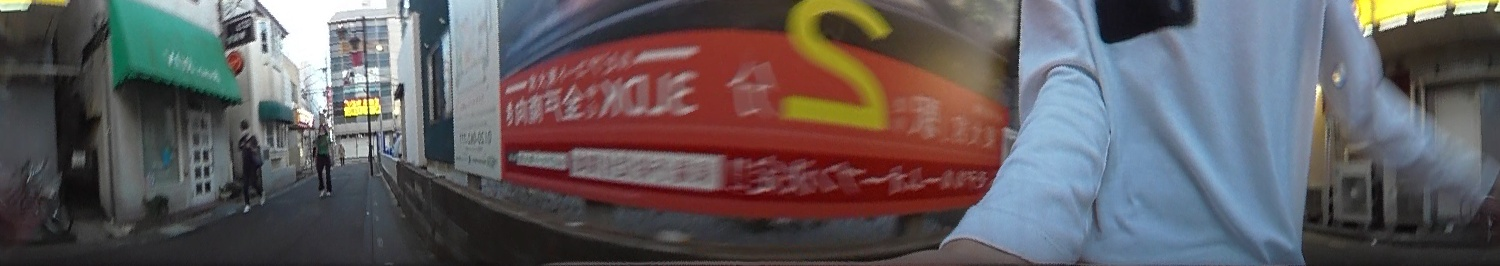difficult_person: (312, 115, 334, 193), (335, 139, 347, 168)
person: (231, 121, 271, 207)
